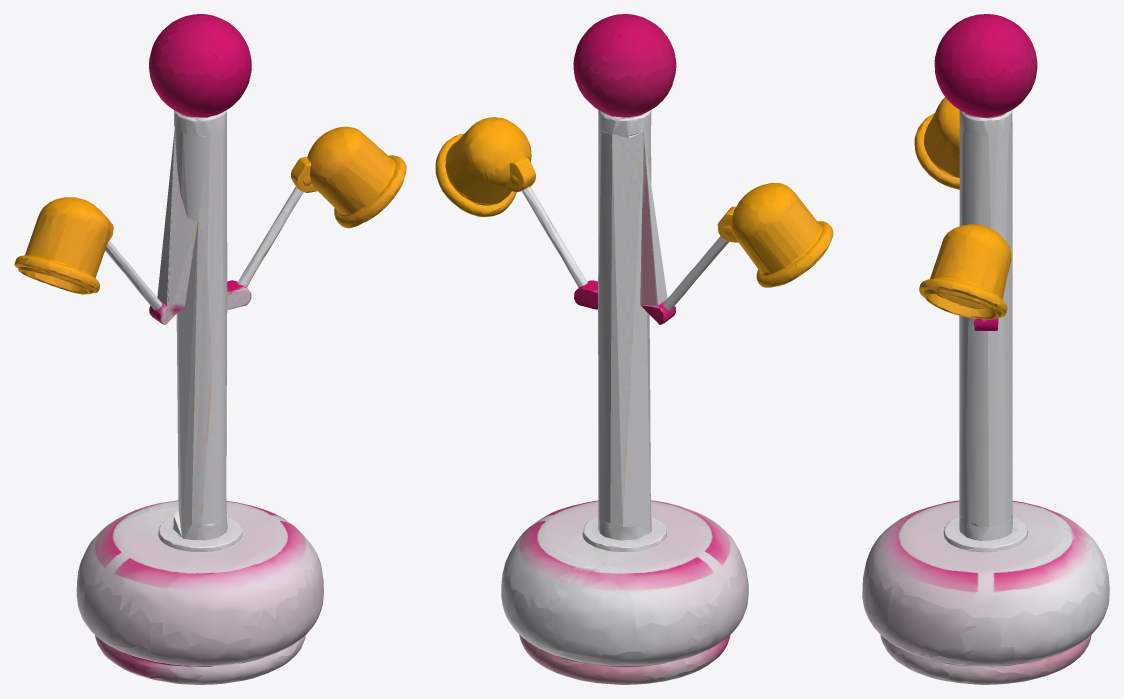
Rendered from spotlight-mast.glb.
3 renders of one model, left to right at view 1: azimuth 30°, elevation 25°; view 2: azimuth 150°, elevation 25°; view 3: azimuth 270°, elevation 25°, orthographic.
Visible parts, largest first — view 1: mesh_node; view 2: mesh_node; view 3: mesh_node.
Part boxes in pixels (<box>): mesh_node: <box>14,14,406,684</box>; mesh_node: <box>435,14,833,684</box>; mesh_node: <box>862,14,1109,684</box>.
Bounding box in the file's own units: 1.21 × 1.9 × 0.6801.
1 material, 1 textured.
